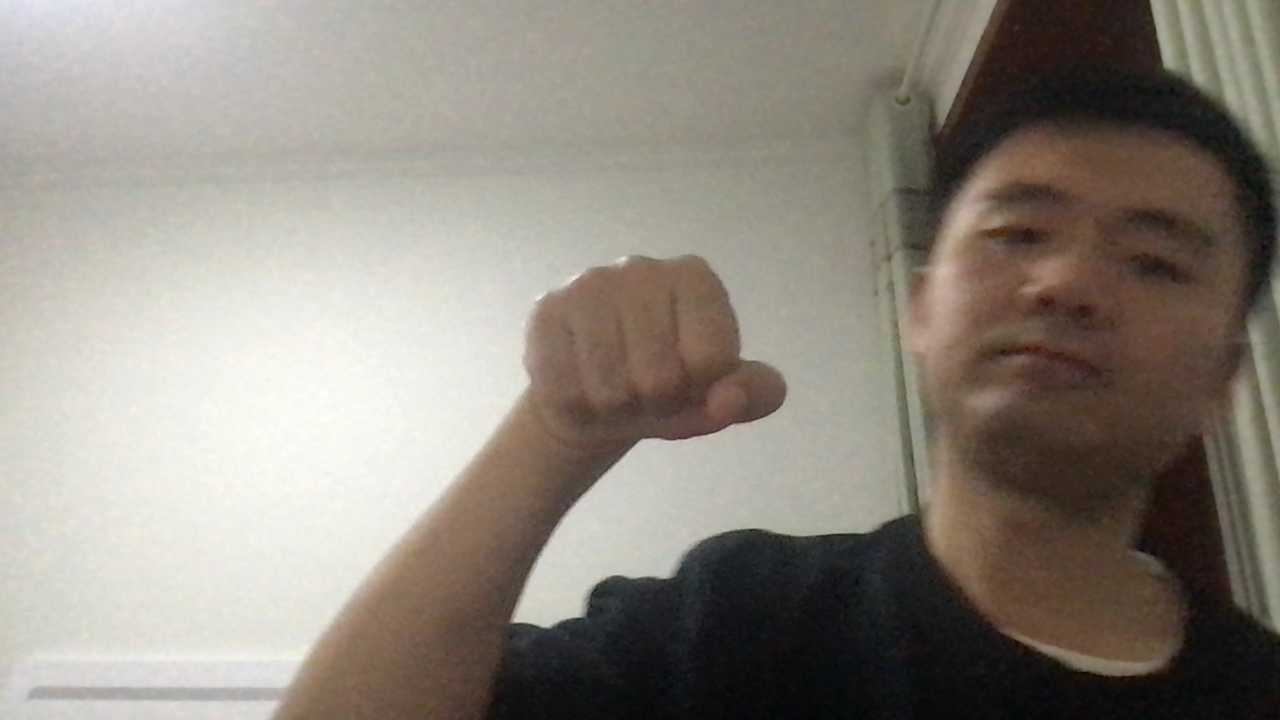ok: (514, 250, 837, 460)
